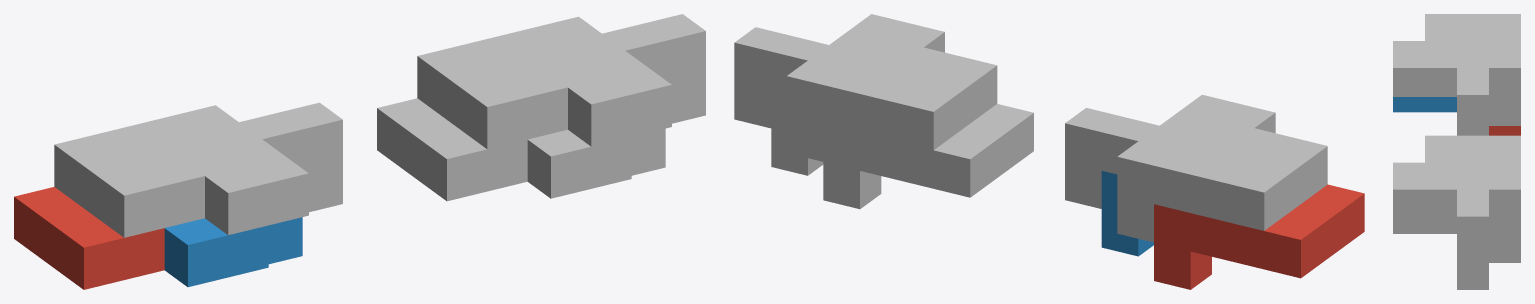
Rendered from tiling.obj.
3 views of the same model, side by side, from view 1: azimuth 30°, elevation 25°; view 2: azimuth 150°, elevation 25°; view 3: azimuth 270°, elevation 25° (orthographic). The views are drawn at different scales.
Visible parts, largest first — view 1: copy_1_domain_4, copy_1_domain_8, copy_1_domain_3, copy_1_domain_7, copy_1_domain_5, copy_1_domain_1, copy_1_domain_2, copy_1_domain_6; view 2: copy_1_domain_7, copy_1_domain_3, copy_1_domain_5, copy_1_domain_1, copy_1_domain_8, copy_1_domain_4, copy_1_domain_2, copy_1_domain_6; view 3: copy_1_domain_8, copy_1_domain_4, copy_1_domain_7, copy_1_domain_3, copy_1_domain_6, copy_1_domain_2, copy_1_domain_5, copy_1_domain_1.
Part boxes in pixels (left/top/right/bottom): copy_1_domain_4: left=159, top=102, right=342, bottom=235; copy_1_domain_8: left=522, top=14, right=705, bottom=146; copy_1_domain_3: left=54, top=105, right=238, bottom=237; copy_1_domain_7: left=417, top=16, right=601, bottom=149; copy_1_domain_5: left=377, top=98, right=527, bottom=201; copy_1_domain_1: left=14, top=187, right=164, bottom=289; copy_1_domain_2: left=164, top=217, right=302, bottom=287; copy_1_domain_6: left=527, top=128, right=665, bottom=198; copy_1_domain_7: left=786, top=47, right=997, bottom=161; copy_1_domain_3: left=1117, top=128, right=1327, bottom=242; copy_1_domain_5: left=823, top=104, right=1033, bottom=209; copy_1_domain_1: left=1154, top=184, right=1364, bottom=289; copy_1_domain_8: left=734, top=14, right=944, bottom=128; copy_1_domain_4: left=1065, top=94, right=1275, bottom=208; copy_1_domain_2: left=1101, top=171, right=1153, bottom=256; copy_1_domain_6: left=771, top=90, right=823, bottom=175; copy_1_domain_8: left=1393, top=162, right=1488, bottom=274; copy_1_domain_4: left=1393, top=41, right=1488, bottom=135; copy_1_domain_7: left=1425, top=135, right=1520, bottom=247; copy_1_domain_3: left=1425, top=14, right=1520, bottom=125; copy_1_domain_6: left=1393, top=218, right=1488, bottom=289; copy_1_domain_2: left=1393, top=97, right=1456, bottom=112; copy_1_domain_5: left=1489, top=247, right=1520, bottom=262; copy_1_domain_1: left=1489, top=126, right=1520, bottom=135.
Bounding box in the file's own units: 16 × 3 × 4.
